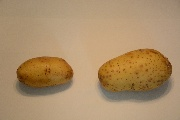potato: (98, 48, 173, 92), (15, 55, 75, 89)
